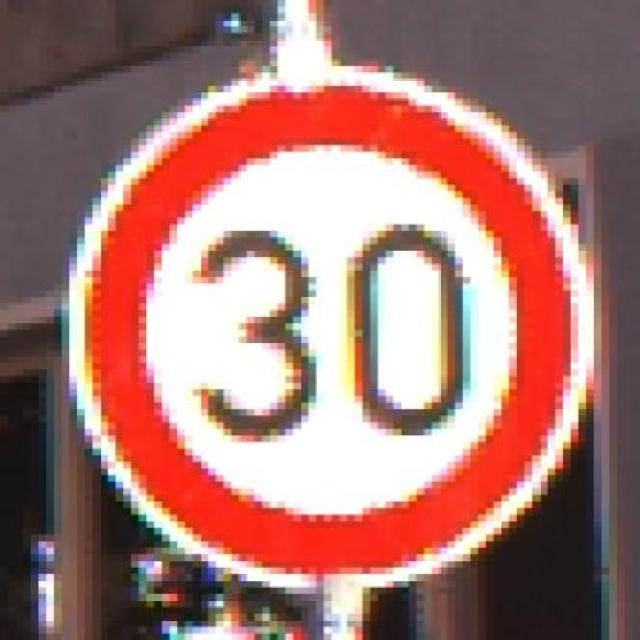Speed Limit 30 KMPh: (31, 32, 632, 614)
